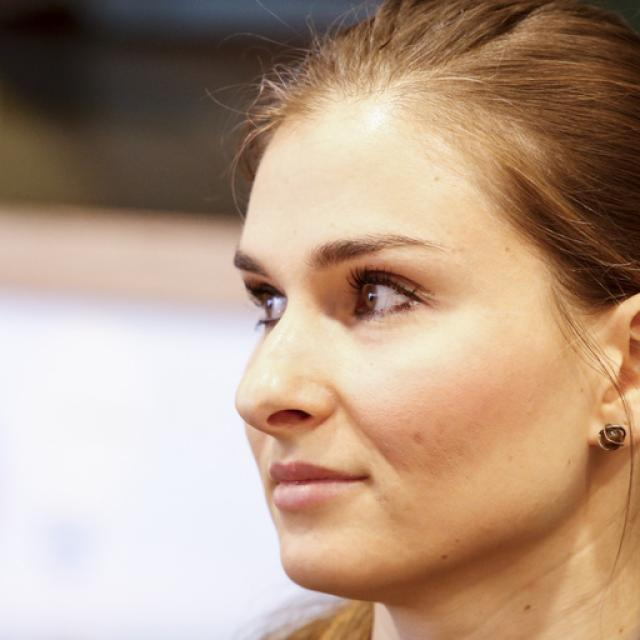happy: (226, 79, 584, 589)
